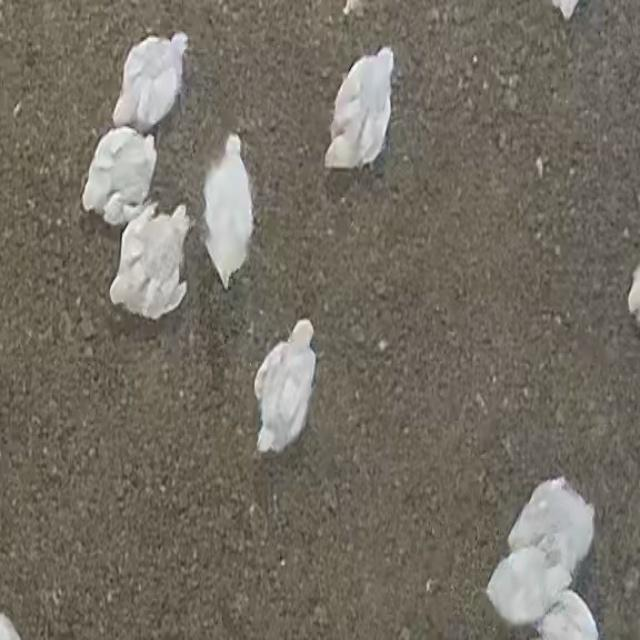chicken: (318, 43, 399, 175), (105, 205, 195, 321), (252, 318, 321, 460), (201, 126, 256, 288), (105, 28, 194, 128), (79, 128, 161, 226)
